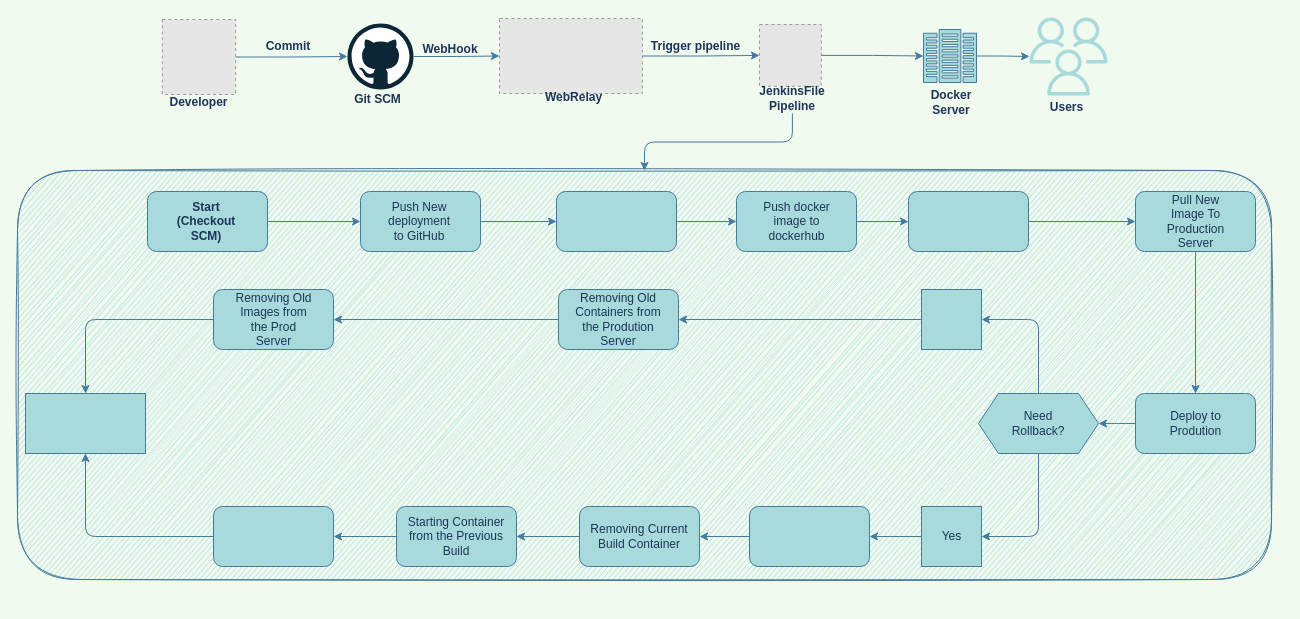
The diagram is 1300 pixels wide and 619 high, and some of its shapes have lost their labels. Grey dashed boxes stand in for pictures. The centre of each missing label's shape, as x and y in pixels:
"Build docker Image on Jenkins Worker" belongs at pixel 616 221.
"End Pipeline" belongs at pixel 85 423.
"No" belongs at pixel 951 319.
"Removing Current Build Image" belongs at pixel 273 536.
"Removing old image (tag) from Jenkins worker" belongs at pixel 968 221.
"Stopping Current Build Container" belongs at pixel 809 536.
